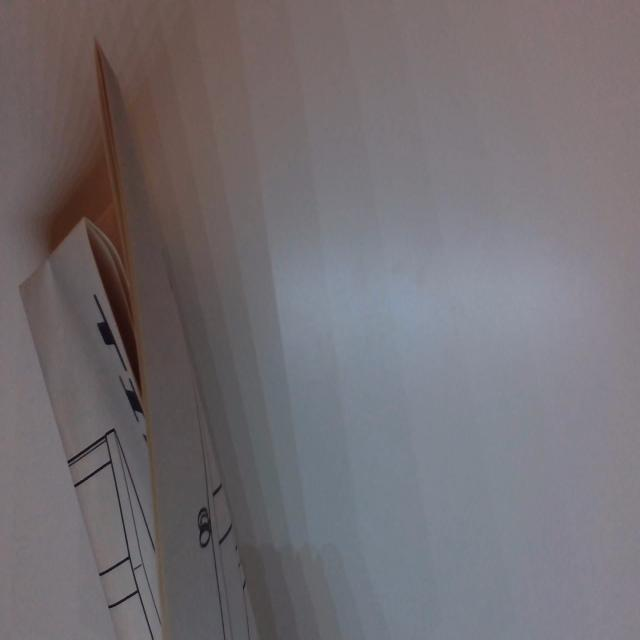Paper: (18, 39, 269, 640)
